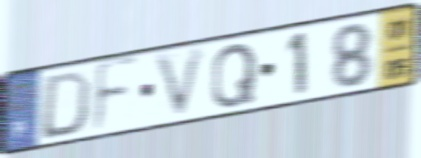1: (285, 29, 310, 100)
8: (328, 20, 376, 91)
D: (37, 69, 94, 143)
F: (89, 53, 141, 139)
Q: (208, 40, 259, 112)
V: (151, 42, 210, 124)
